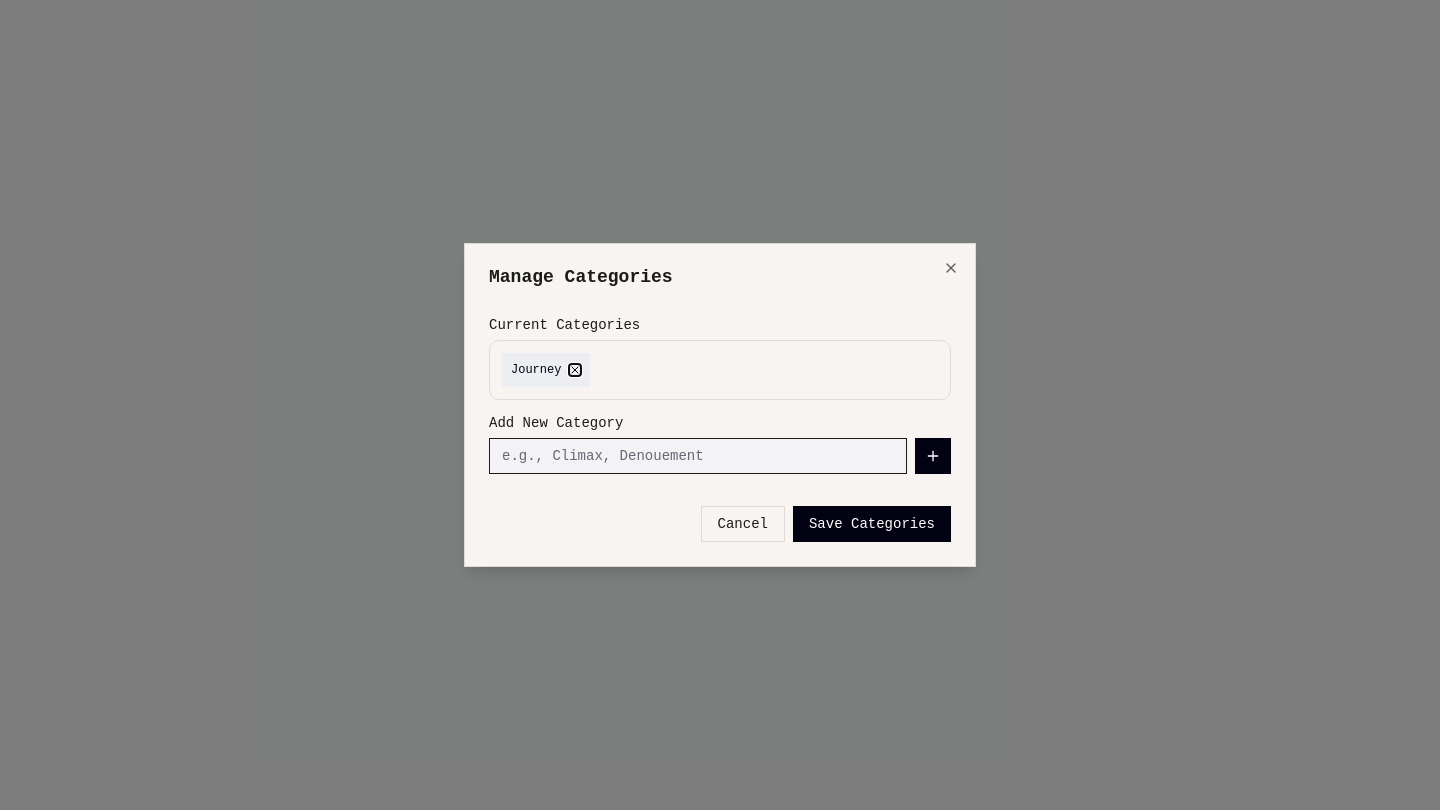
Test: ManageCategoriesDialog › shows error when save fails and resets on cancel
The width and height of the screenshot is (1440, 810).
Click the button "Save Categories": (872, 524) top-left (793, 506), bottom-right (951, 542)
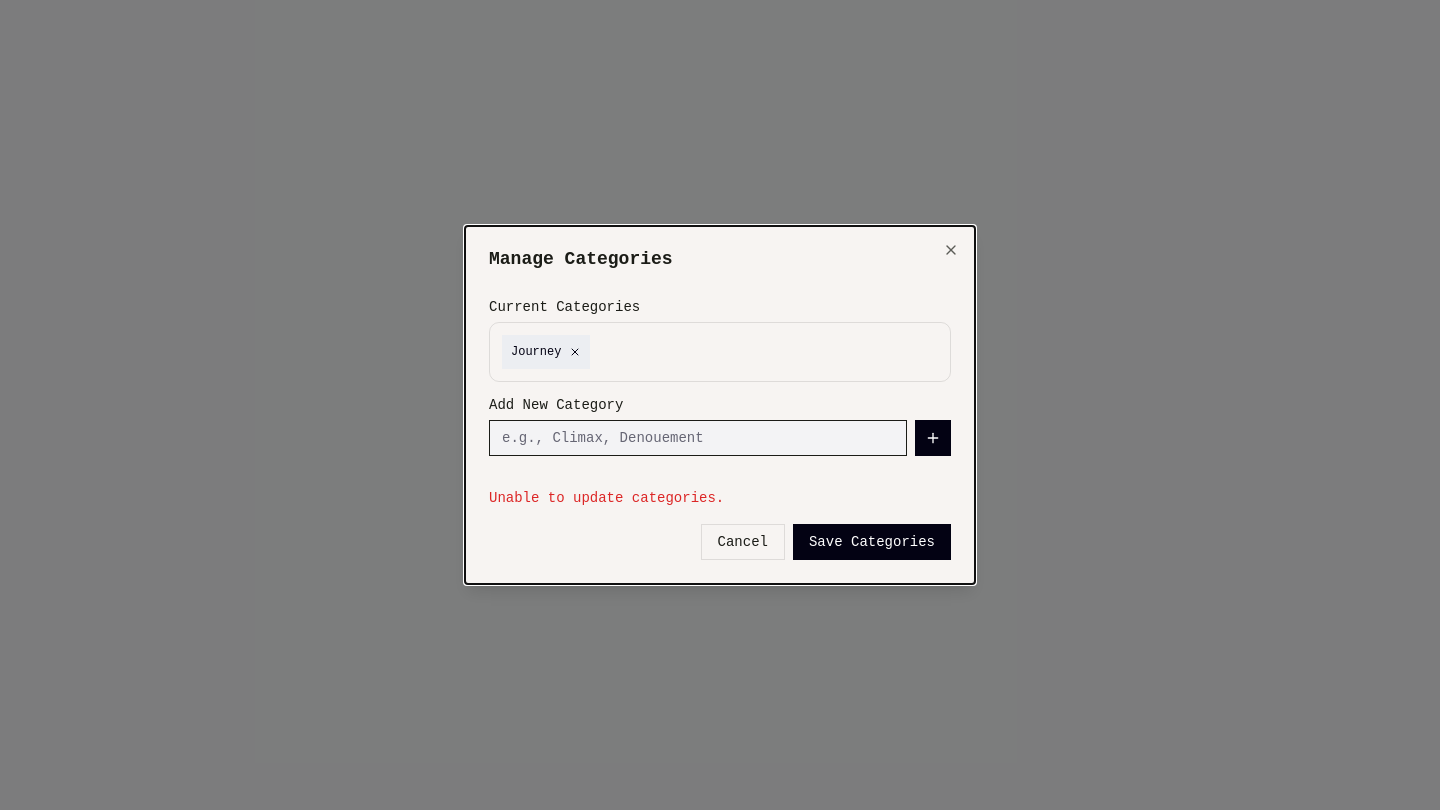
Check: the text "Unable to update categories." is shown, box top-left (489, 490), bottom-right (724, 506)
Click the button "Cancel": (743, 542) top-left (700, 524), bottom-right (785, 560)
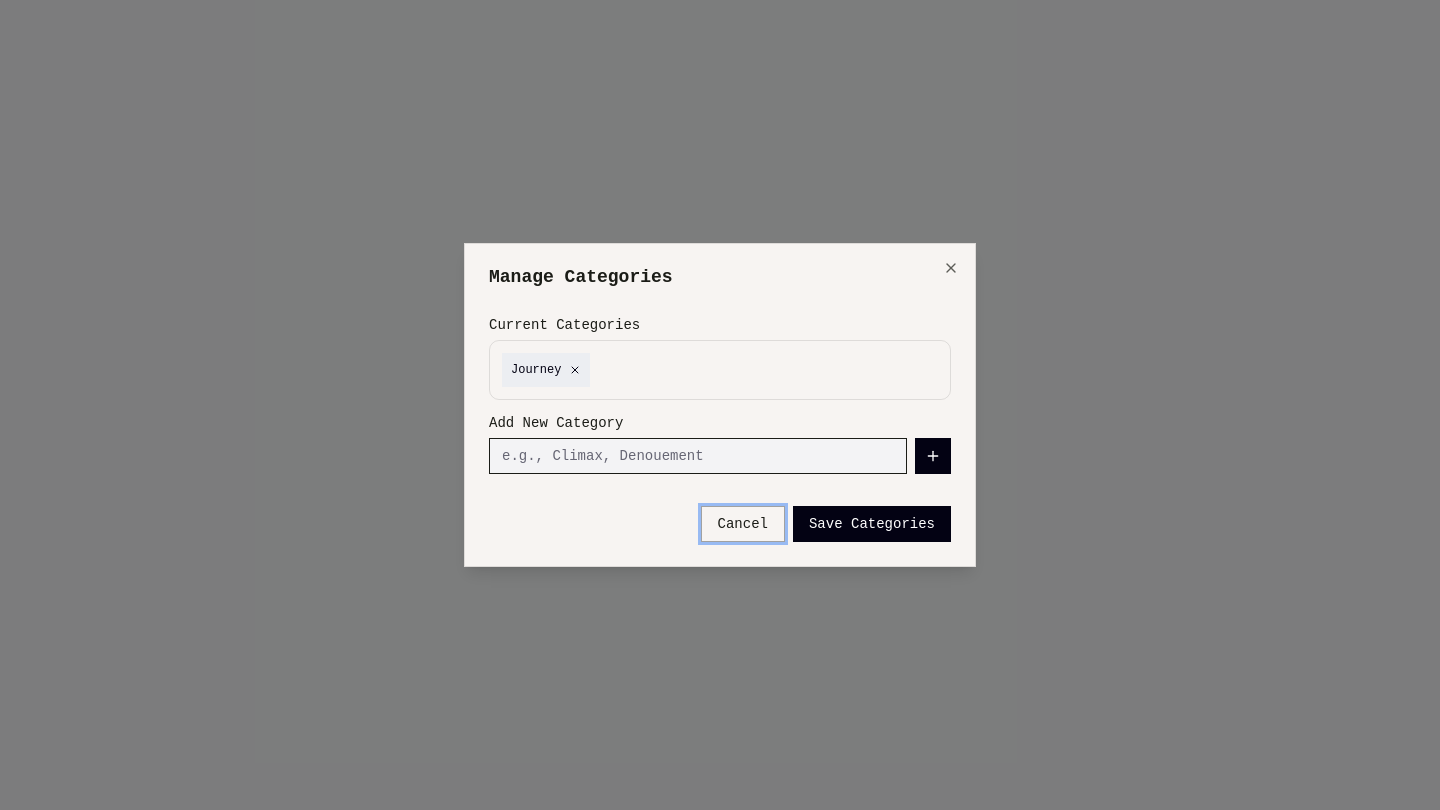
Check: the text "Unable to update categories" is gone
